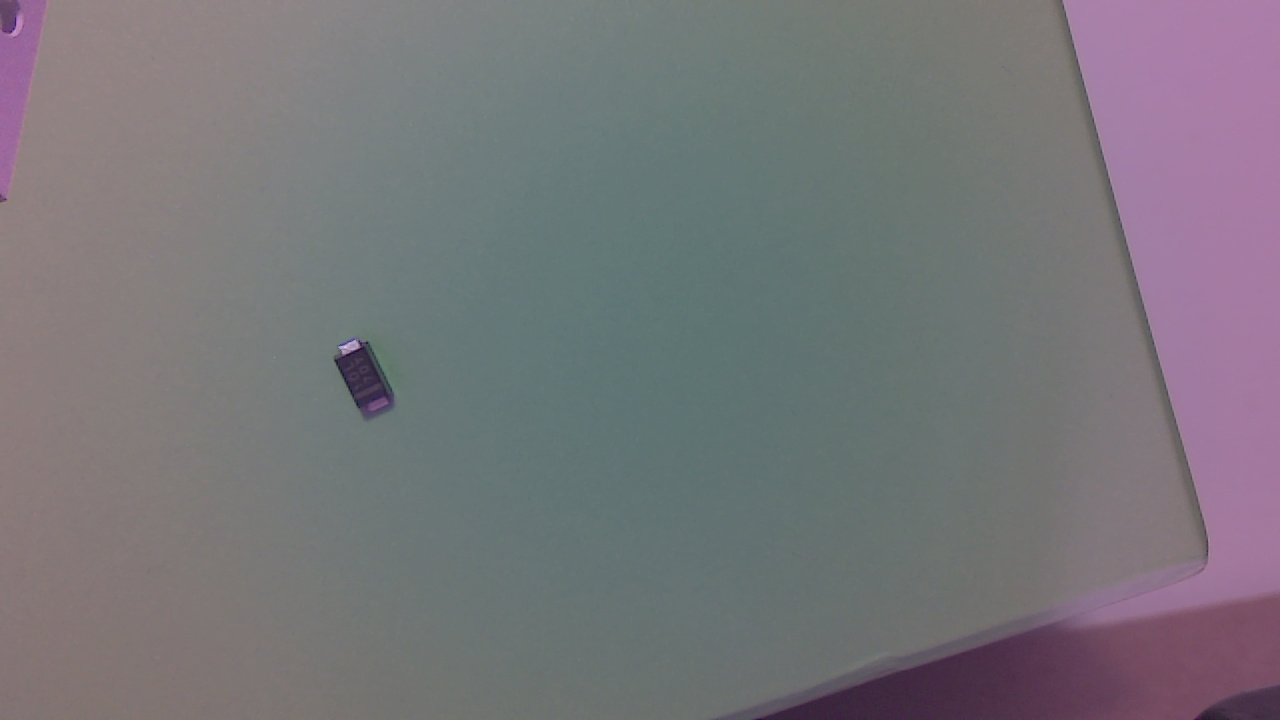Diode: (339, 342, 401, 426)
